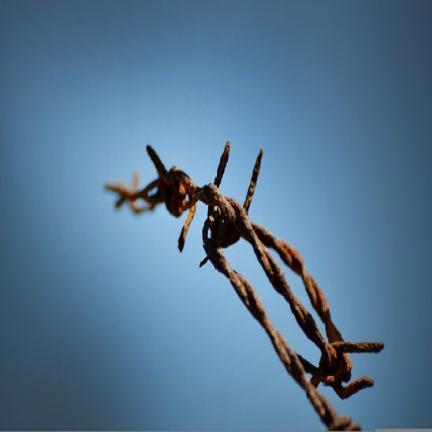karat: (106, 142, 383, 430)
